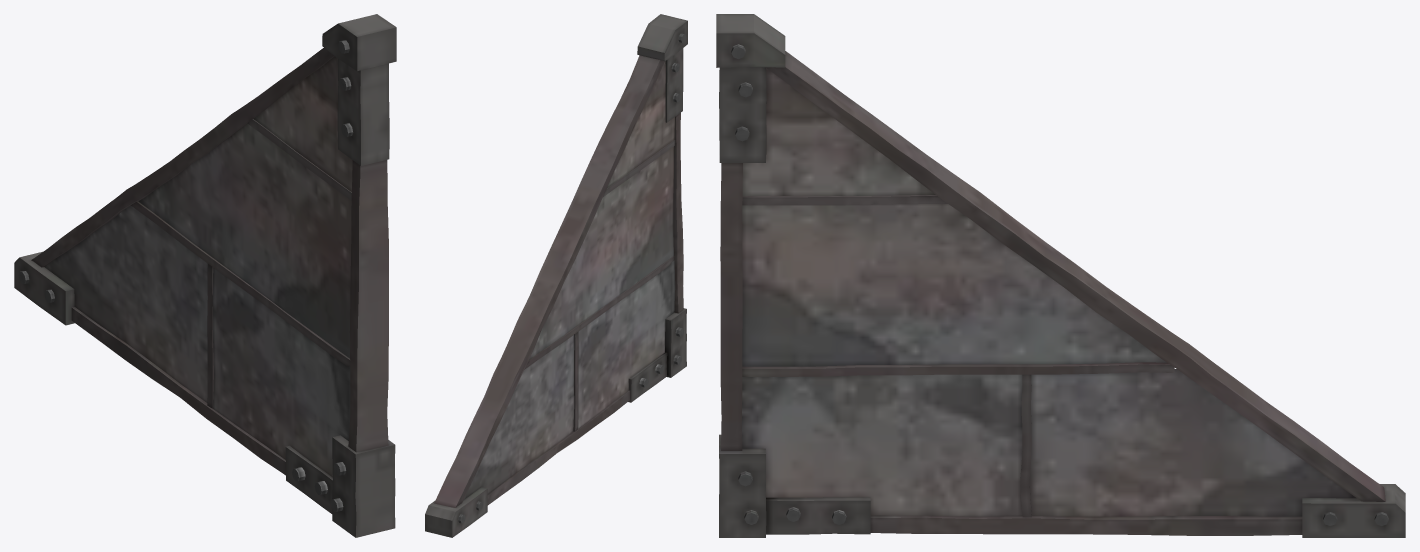
Rendered from SM_WallTryangle_Iron_8a857f.glb.
3 renders of one model, left to right at view 1: azimuth 30°, elevation 25°; view 2: azimuth 150°, elevation 25°; view 3: azimuth 270°, elevation 25°, orthographic. The views are drawn at different scales.
Size of the model in its own units: 0.3465 by 3.28 by 4.05.
Materials: 1 (1 with a texture image).
